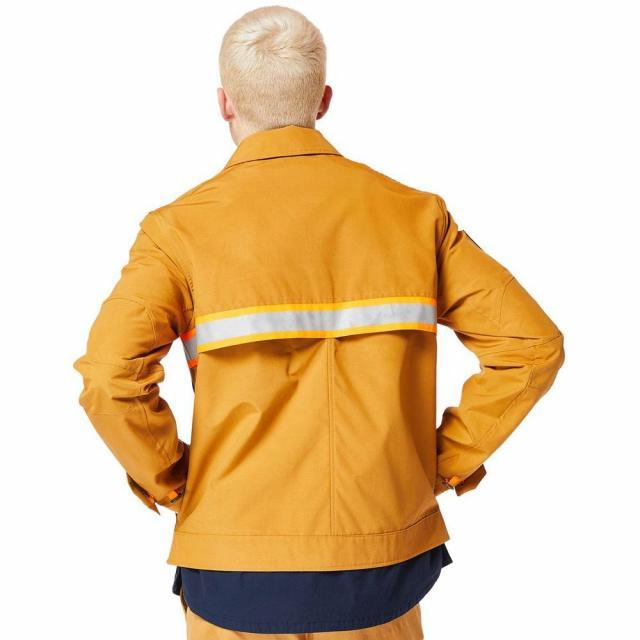reflective_jacket: (150, 123, 454, 627)
